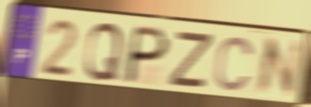2: (39, 18, 80, 79)
C: (212, 35, 256, 94)
N: (252, 36, 304, 98)
P: (121, 24, 173, 86)
Q: (83, 21, 125, 83)
Z: (166, 30, 217, 91)
